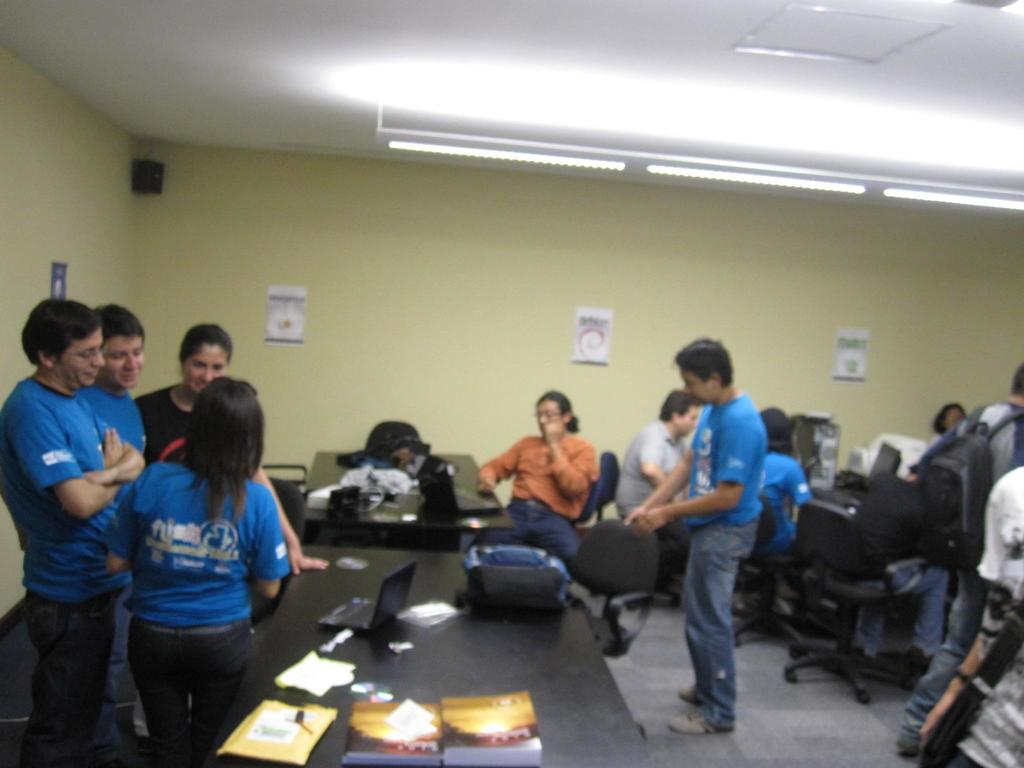Person: (0, 298, 1024, 768)
